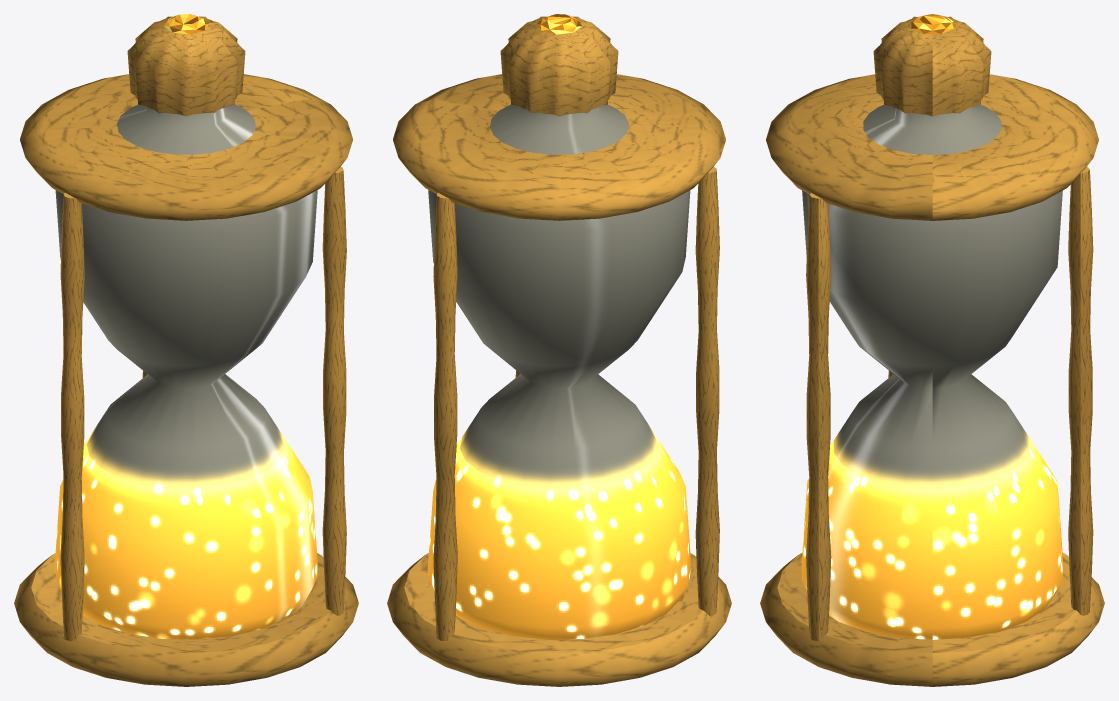
Rendered from ElixirOfAges.glb.
3 renders of one model, left to right at view 1: azimuth 30°, elevation 25°; view 2: azimuth 150°, elevation 25°; view 3: azimuth 270°, elevation 25°, orthographic.
Parts seen in each view (by area): view 1: ElixirOfAges; view 2: ElixirOfAges; view 3: ElixirOfAges.
Boxes of the visible parts, left/top/right/bottom form: ElixirOfAges: left=14, top=14, right=358, bottom=686; ElixirOfAges: left=387, top=14, right=731, bottom=686; ElixirOfAges: left=760, top=14, right=1104, bottom=686.
Bounding box in the file's own units: 0.6 × 1.15 × 0.6.
Materials: 1 (1 with a texture image).
